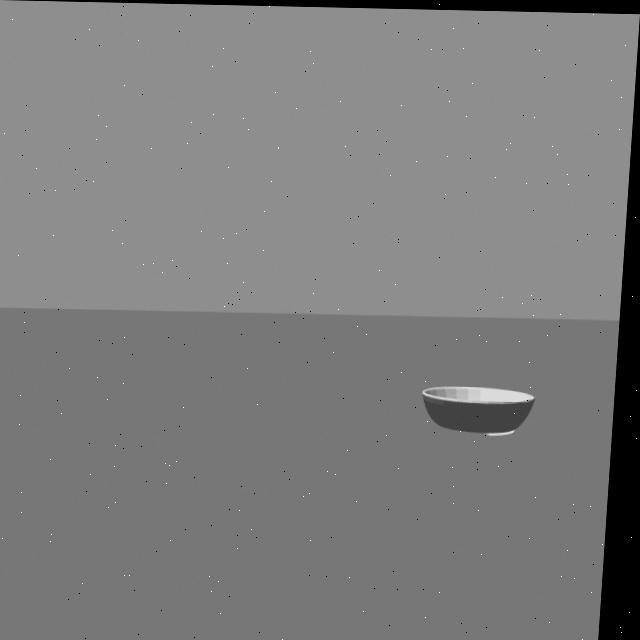bowl: (417, 362, 556, 442)
